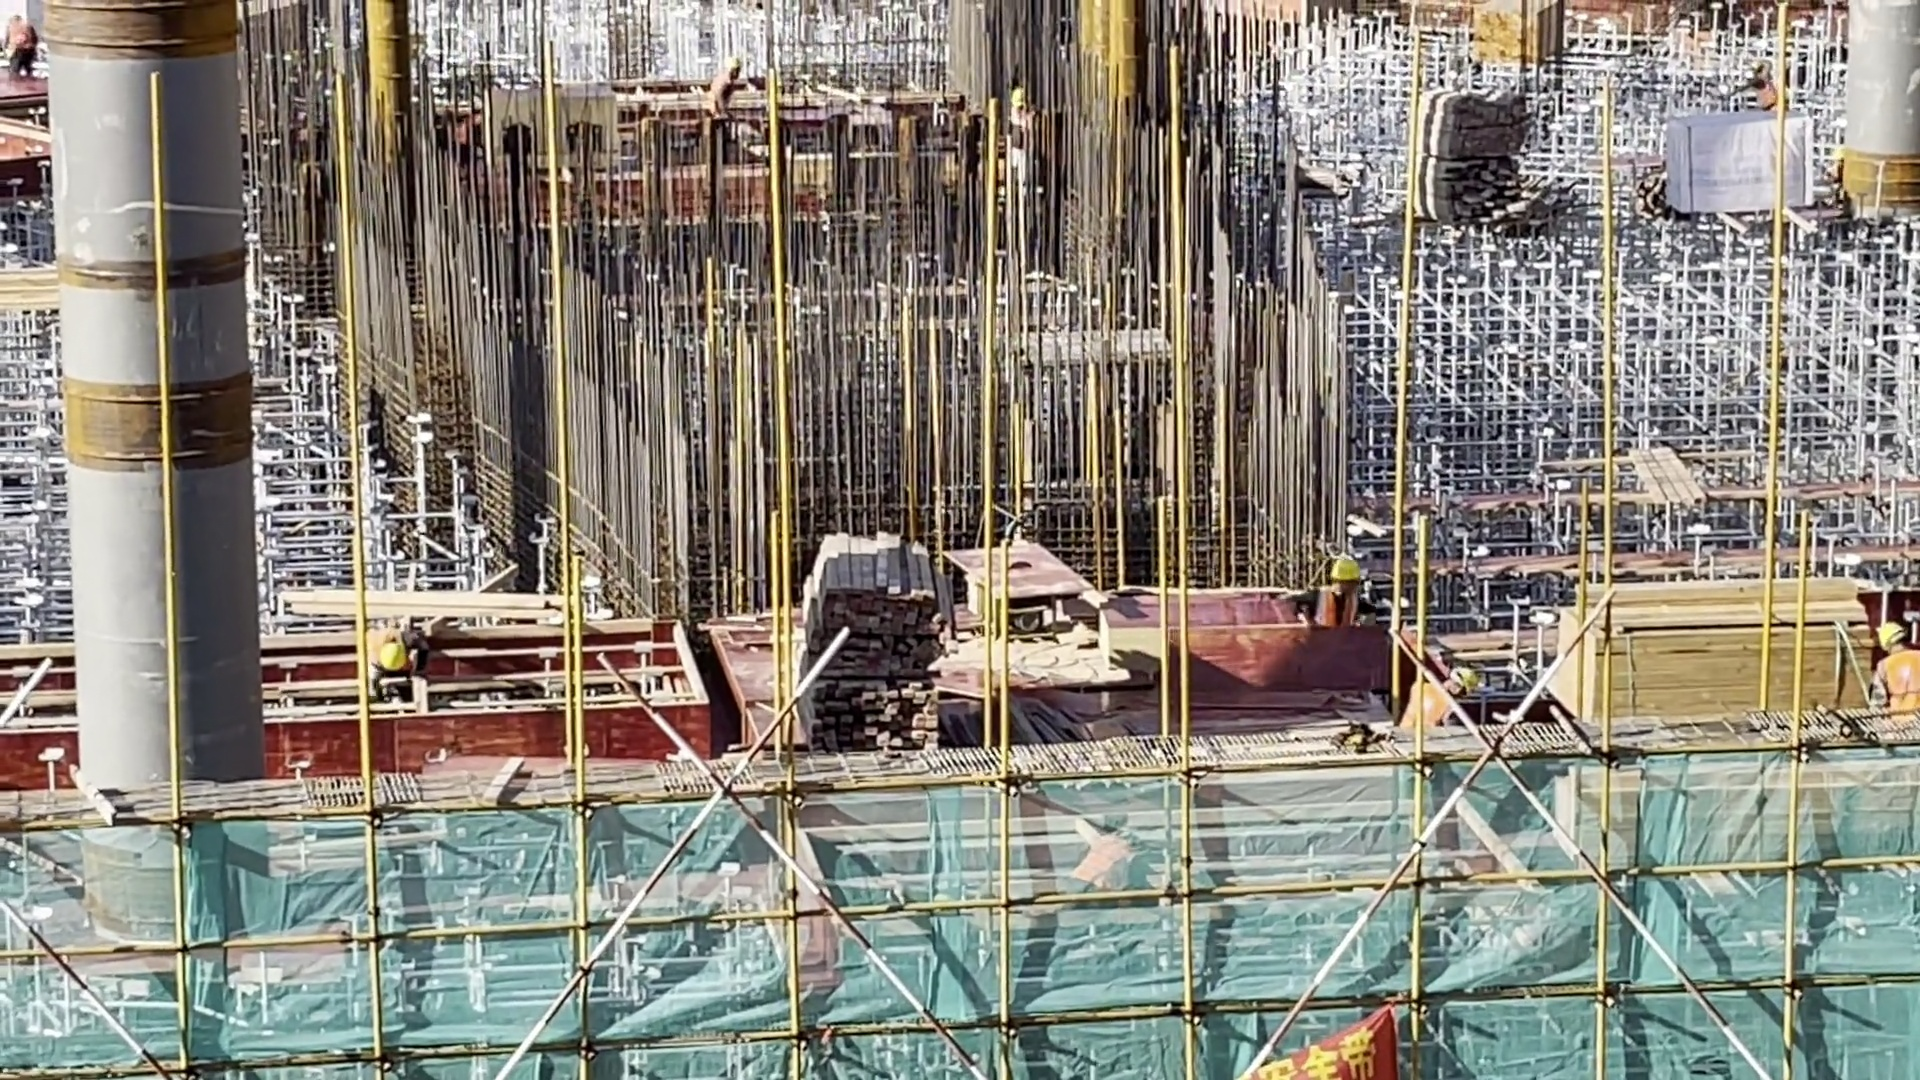helmet: (1315, 550, 1369, 590), (378, 631, 412, 675), (1874, 612, 1906, 650)
person: (1280, 546, 1386, 648), (347, 615, 456, 706), (1858, 616, 1920, 727)
slogan: (1210, 991, 1444, 1080)
vest: (1869, 648, 1920, 717), (1300, 585, 1366, 635)
wood: (1541, 545, 1896, 742), (773, 504, 955, 761)
